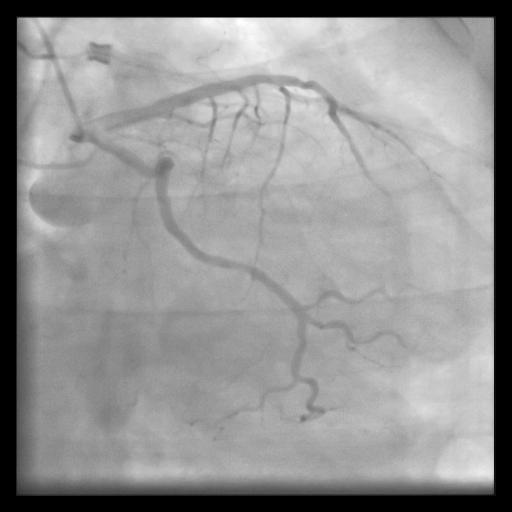Stenosis: (231, 256, 249, 273)
